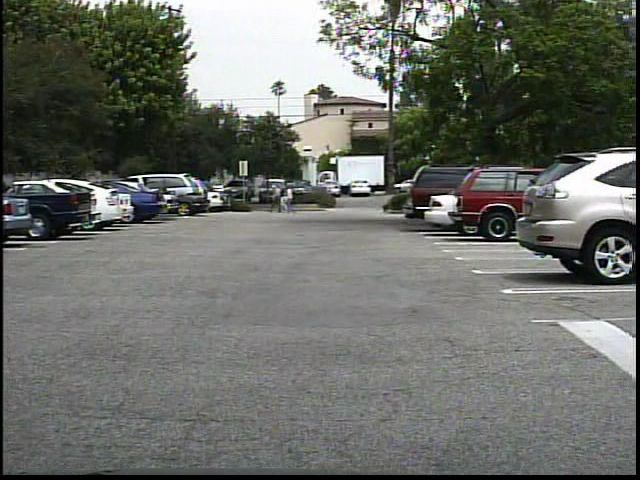person: (269, 185, 284, 215), (280, 184, 293, 215), (287, 186, 300, 215)
